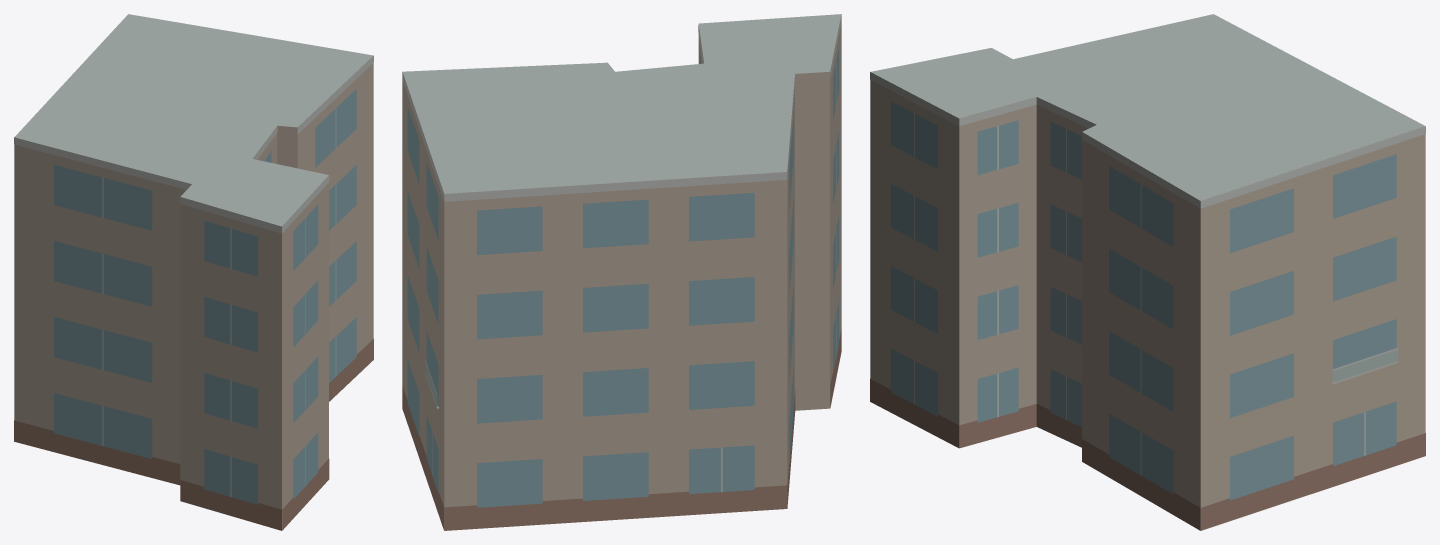
Rendered from survey-upis-32739363.glb.
3 views of the same model, side by side, from view 1: azimuth 30°, elevation 25°; view 2: azimuth 150°, elevation 25°; view 3: azimuth 270°, elevation 25° (orthographic). The views are drawn at different scales.
Visible parts, largest first — view 1: survey-upis-32739363.tmp; view 2: survey-upis-32739363.tmp; view 3: survey-upis-32739363.tmp.
Boxes of the visible parts, x1=… form: survey-upis-32739363.tmp: x1=14, y1=14, x2=373, y2=530; survey-upis-32739363.tmp: x1=402, y1=14, x2=841, y2=530; survey-upis-32739363.tmp: x1=870, y1=14, x2=1425, y2=530.
Size of the model in its own units: 12.65 by 10.4 by 15.88.
